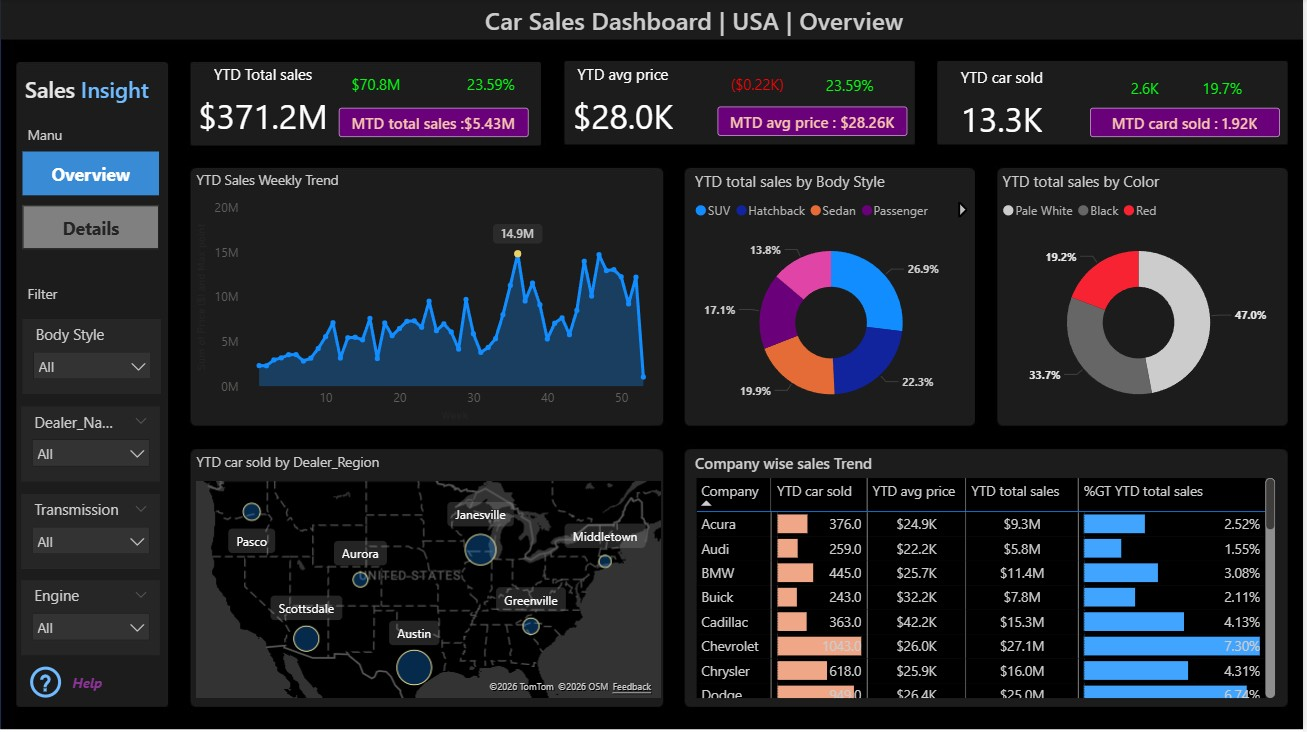

This screenshot's page, from the dashboard's own definition file:
{"tool":"powerbi","page":{"name":"Overview","canvas":[1280,720],"ordinal":0},"visuals":[{"type":"cardVisual","title":"YTD Total sales","fields":{"Data":["car_data.YTD total sales"]},"box":[166.2,63.8,185,83.8],"z":0},{"type":"cardVisual","fields":{"Data":["car_data.YOY total sales"]},"box":[332.5,58.8,73.8,46.2],"z":1000},{"type":"cardVisual","fields":{"Data":["car_data.YOY sales growth"]},"box":[445,58.8,73.8,46.2],"z":2000},{"type":"cardVisual","fields":{"Data":["car_data.MTD KPI"]},"box":[332.5,106.2,186.2,28.8],"z":3000},{"type":"cardVisual","title":"YTD avg price","fields":{"Data":["car_data.YTD avg price"]},"box":[518.8,63.8,185,83.8],"z":4000},{"type":"cardVisual","fields":{"Data":["car_data.Avg price diff"]},"box":[703.8,58.8,78.8,46.2],"z":5000},{"type":"cardVisual","fields":{"Data":["car_data.YOY sales growth"]},"box":[797.5,60,73.8,46.2],"z":6000},{"type":"cardVisual","fields":{"Data":["car_data.MTD avg price KPI"]},"box":[703.8,105,186.2,28.8],"z":7000},{"type":"cardVisual","title":"YTD car sold","fields":{"Data":["car_data.YTD card sold"]},"box":[885,66.2,197.5,83.8],"z":8000},{"type":"cardVisual","fields":{"Data":["car_data.car sold diff"]},"box":[1085,62.5,78.8,46.2],"z":9000},{"type":"cardVisual","fields":{"Data":["car_data.YOY card sold growth"]},"box":[1163.5,62,73.8,46.2],"z":10000},{"type":"cardVisual","fields":{"Data":["car_data.MTD car sold KPI"]},"box":[1069.7,107,186.2,28.8],"z":11000},{"type":"lineChart","title":"YTD Sales Weekly Trend","fields":{"Y":["Sum(car_data.Price ($))","car_data.Max point"],"Category":["Calender Table.Week"]},"box":[187.5,167.5,466.2,251.2],"z":12000},{"type":"donutChart","fields":{"Category":["car_data.Body Style"],"Y":["car_data.YTD total sales"]},"box":[677.3,168.1,277.3,251.5],"z":13000},{"type":"donutChart","fields":{"Category":["car_data.Color"],"Y":["car_data.YTD total sales"]},"box":[979.1,168.1,277.3,251.5],"z":14000},{"type":"azureMap","fields":{"Category":["car_data.Dealer_Region"],"Size":["car_data.YTD car sold"]},"box":[187.7,445.4,466.3,245.4],"z":15000},{"type":"tableEx","title":"Company wise sales Trend","fields":{"Values":["car_data.Company","car_data.YTD car sold","car_data.YTD avg price","car_data.YTD total sales1","car_data.YTD total sales"]},"box":[677.3,445.4,579.1,245.4],"z":16000},{"type":"textbox","box":[471.2,0,440.5,42.9],"z":17000},{"type":"slicer","fields":{"Values":["car_data.Body Style"]},"box":[22.1,314.3,136.2,73.6],"z":18000},{"type":"slicer","fields":{"Values":["car_data.Dealer_Name"]},"box":[20.9,399.8,136.2,73.6],"z":19000},{"type":"slicer","fields":{"Values":["car_data.Transmission"]},"box":[20.9,485.3,136.2,73.6],"z":20000},{"type":"slicer","fields":{"Values":["car_data.Engine"]},"box":[20.9,570.8,136.2,73.6],"z":21000},{"type":"textbox","box":[22.1,275.1,136.2,39.3],"z":22000},{"type":"textbox","box":[19.6,68.7,168.1,39.3],"z":23000},{"type":"textbox","box":[22.1,119,101.8,28.2],"z":24000},{"type":"pageNavigator","box":[22.1,149.7,135,96.9],"z":25000},{"type":"actionButton","title":"Help","box":[24.5,650.3,79.8,40.5],"z":26000}]}

Visuals, with their boxes in screenshot pixels (x1, y1, x2, y2), scaled from the page's 1280x720 canvas onto the 1307x732 screenshot:
"YTD Total sales" cardVisual: {"x1": 170, "y1": 65, "x2": 359, "y2": 150}
cardVisual - car_data.YOY total sales: {"x1": 340, "y1": 60, "x2": 415, "y2": 107}
cardVisual - car_data.YOY sales growth: {"x1": 454, "y1": 60, "x2": 530, "y2": 107}
cardVisual - car_data.MTD KPI: {"x1": 340, "y1": 108, "x2": 530, "y2": 137}
"YTD avg price" cardVisual: {"x1": 530, "y1": 65, "x2": 719, "y2": 150}
cardVisual - car_data.Avg price diff: {"x1": 719, "y1": 60, "x2": 799, "y2": 107}
cardVisual - car_data.YOY sales growth: {"x1": 814, "y1": 61, "x2": 890, "y2": 108}
cardVisual - car_data.MTD avg price KPI: {"x1": 719, "y1": 107, "x2": 909, "y2": 136}
"YTD car sold" cardVisual: {"x1": 904, "y1": 67, "x2": 1105, "y2": 152}
cardVisual - car_data.car sold diff: {"x1": 1108, "y1": 64, "x2": 1188, "y2": 111}
cardVisual - car_data.YOY card sold growth: {"x1": 1188, "y1": 63, "x2": 1263, "y2": 110}
cardVisual - car_data.MTD car sold KPI: {"x1": 1092, "y1": 109, "x2": 1282, "y2": 138}
"YTD Sales Weekly Trend" lineChart: {"x1": 191, "y1": 170, "x2": 667, "y2": 426}
donutChart - car_data.Body Style x car_data.YTD total sales: {"x1": 692, "y1": 171, "x2": 975, "y2": 427}
donutChart - car_data.Color x car_data.YTD total sales: {"x1": 1000, "y1": 171, "x2": 1283, "y2": 427}
azureMap - car_data.Dealer_Region x car_data.YTD car sold: {"x1": 192, "y1": 453, "x2": 668, "y2": 702}
"Company wise sales Trend" tableEx: {"x1": 692, "y1": 453, "x2": 1283, "y2": 702}
textbox: {"x1": 481, "y1": 0, "x2": 931, "y2": 44}
slicer - car_data.Body Style: {"x1": 23, "y1": 320, "x2": 162, "y2": 394}
slicer - car_data.Dealer_Name: {"x1": 21, "y1": 406, "x2": 160, "y2": 481}
slicer - car_data.Transmission: {"x1": 21, "y1": 493, "x2": 160, "y2": 568}
slicer - car_data.Engine: {"x1": 21, "y1": 580, "x2": 160, "y2": 655}
textbox: {"x1": 23, "y1": 280, "x2": 162, "y2": 320}
textbox: {"x1": 20, "y1": 70, "x2": 192, "y2": 110}
textbox: {"x1": 23, "y1": 121, "x2": 127, "y2": 150}
pageNavigator: {"x1": 23, "y1": 152, "x2": 160, "y2": 251}
"Help" actionButton: {"x1": 25, "y1": 661, "x2": 107, "y2": 702}
